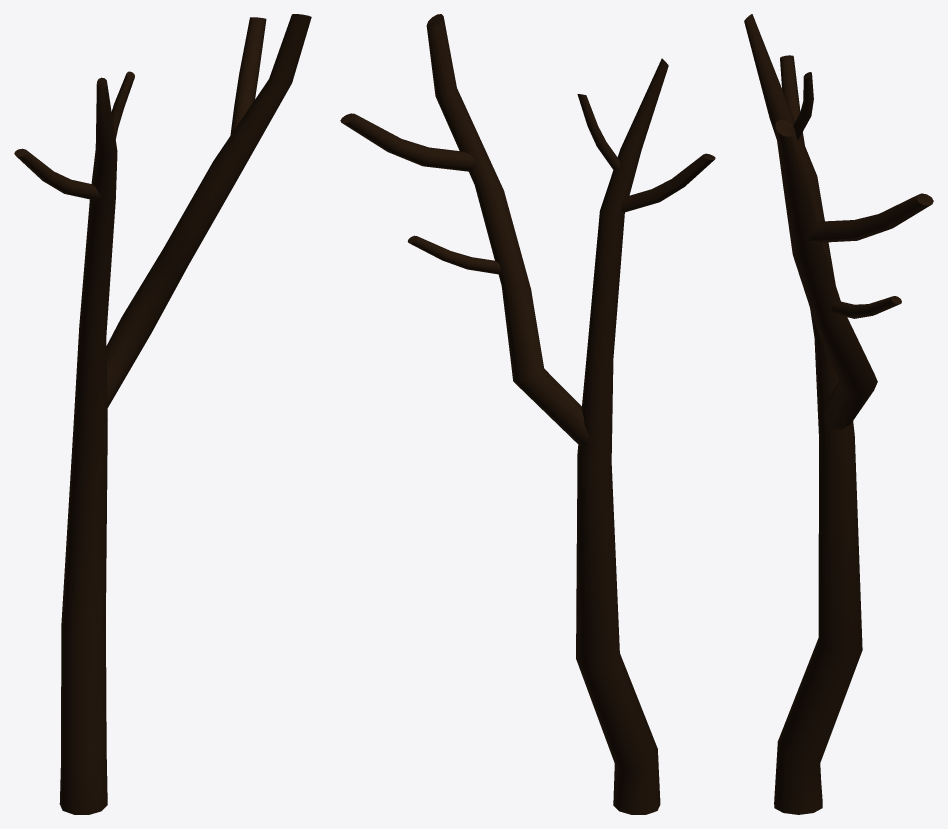
The model's file is DeadBirch_2.fbx.
The picture shows the model from 3 angles, left to right: view 1: azimuth 30°, elevation 25°; view 2: azimuth 150°, elevation 25°; view 3: azimuth 270°, elevation 25°; orthographic projection. The views are drawn at different scales.
Visible parts, largest first — view 1: DeadBirch_2; view 2: DeadBirch_2; view 3: DeadBirch_2.
Boxes of the visible parts, box(x1,y1,x2,y2) form: DeadBirch_2: box(14, 14, 311, 814); DeadBirch_2: box(340, 14, 715, 814); DeadBirch_2: box(744, 14, 933, 814).
Bounding box in the file's own units: 386 × 874 × 190.
